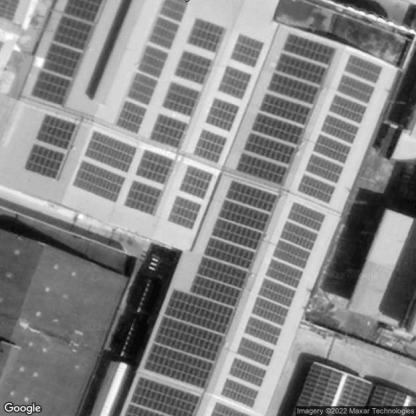solar-pv-panel: (144, 180, 279, 387), (222, 203, 326, 408), (235, 34, 335, 183), (297, 55, 382, 203), (124, 378, 201, 416), (72, 159, 125, 202), (86, 131, 137, 171), (31, 70, 72, 106), (25, 144, 65, 179), (174, 48, 211, 85), (54, 15, 93, 50), (136, 150, 175, 185), (43, 43, 83, 77), (37, 115, 77, 149), (179, 165, 214, 202), (151, 113, 187, 148), (188, 18, 225, 52), (124, 180, 161, 214), (164, 81, 200, 115), (217, 65, 252, 99), (167, 196, 202, 230), (231, 33, 264, 68), (194, 129, 226, 164), (206, 98, 239, 130), (149, 16, 180, 49), (117, 101, 147, 133), (128, 72, 158, 104), (138, 46, 168, 77), (65, 0, 103, 22), (212, 400, 254, 416), (161, 0, 187, 22)
